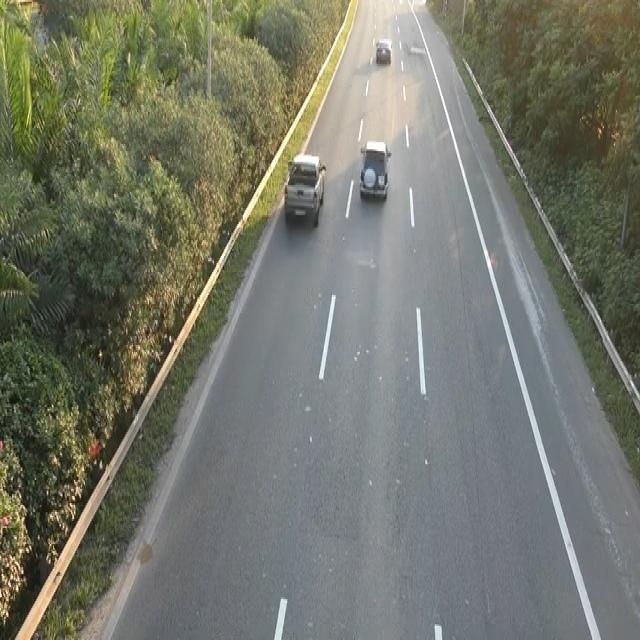bus: (374, 37, 392, 64)
car: (282, 150, 327, 228), (358, 137, 391, 201)
